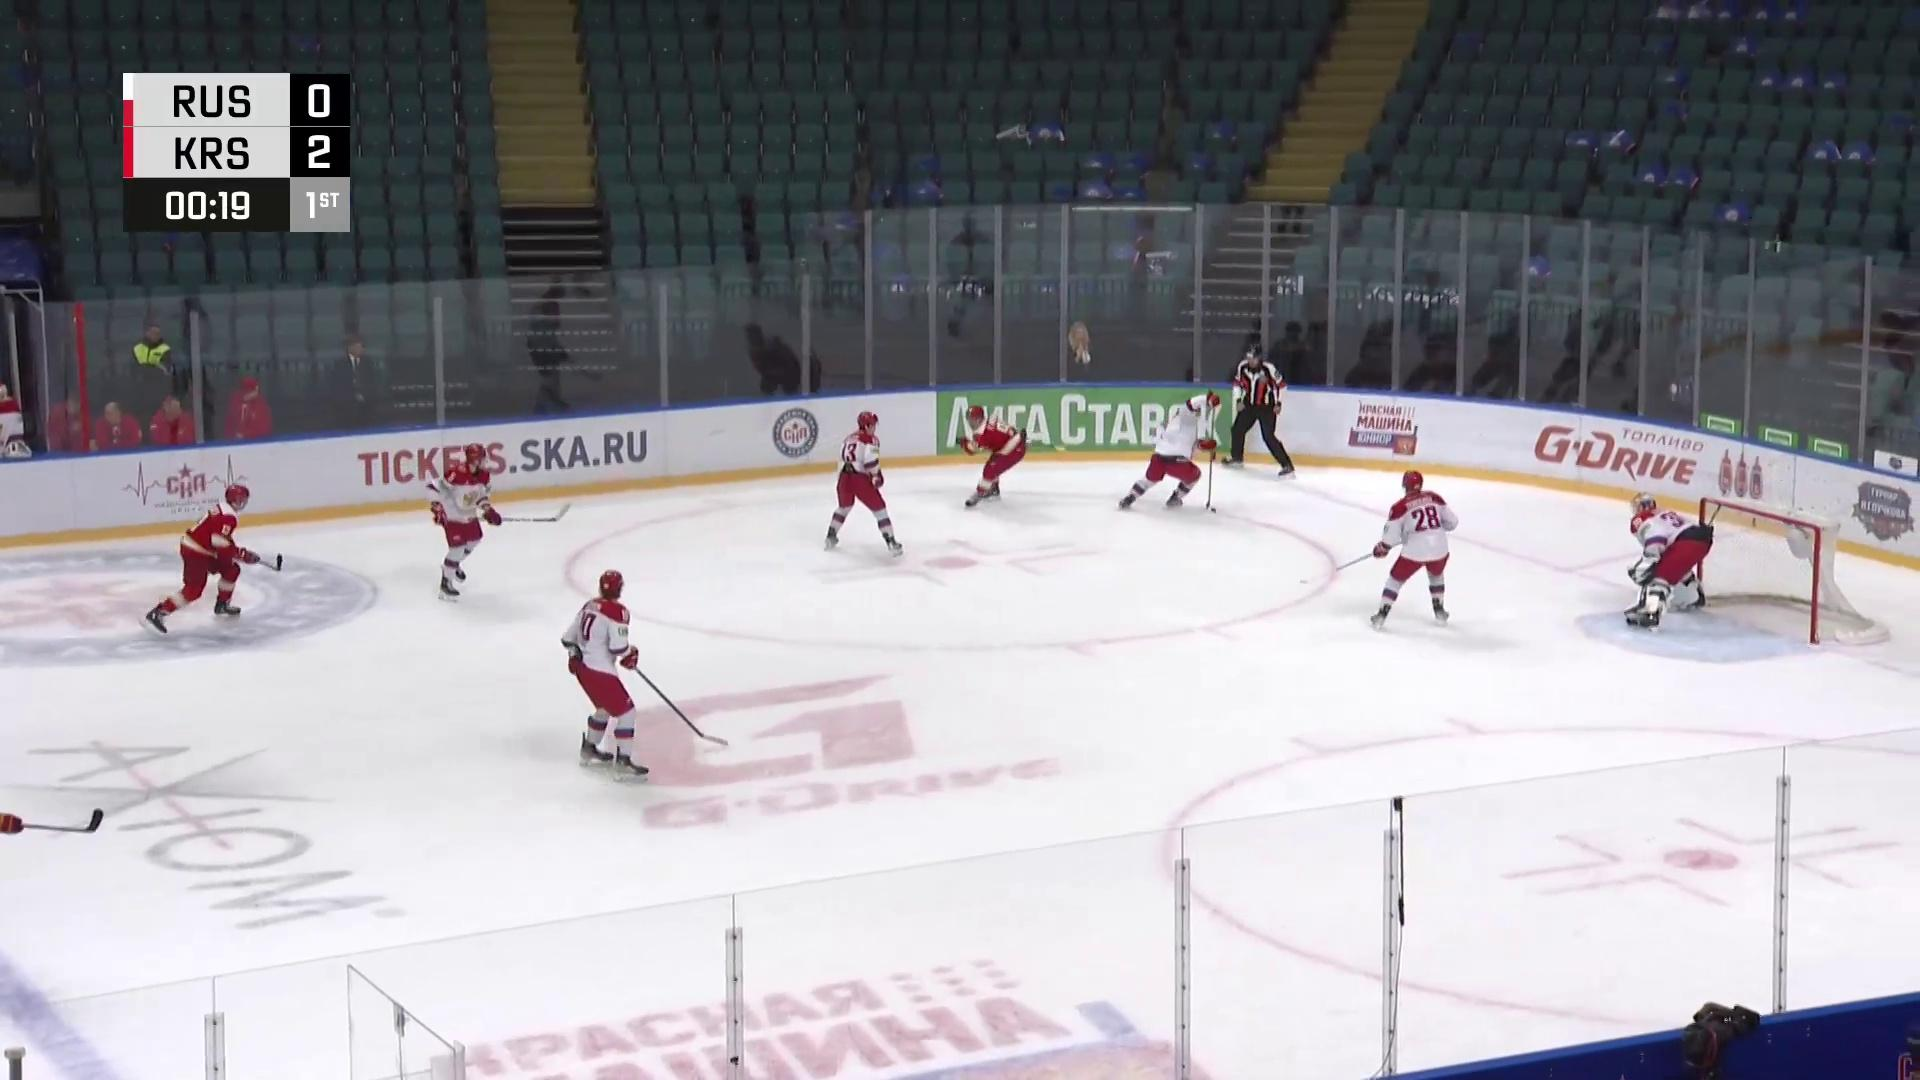ball: (1209, 508, 1217, 514)
